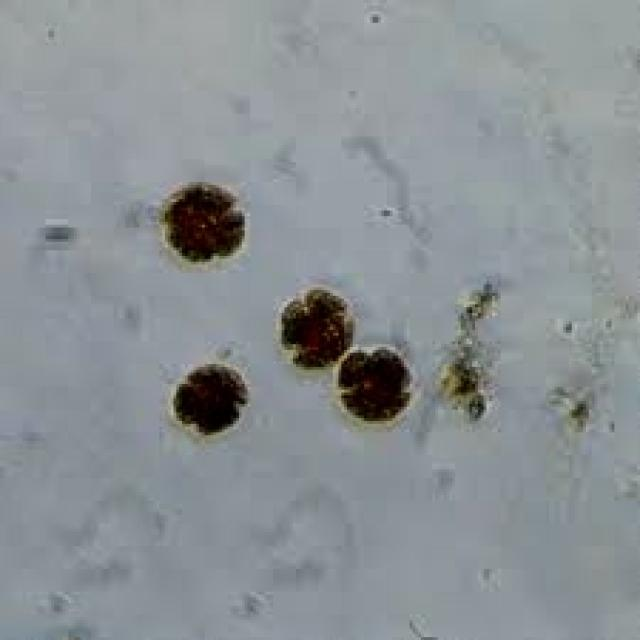Karenia: (339, 345, 422, 439), (159, 183, 248, 270), (272, 282, 358, 369), (168, 355, 255, 437)
